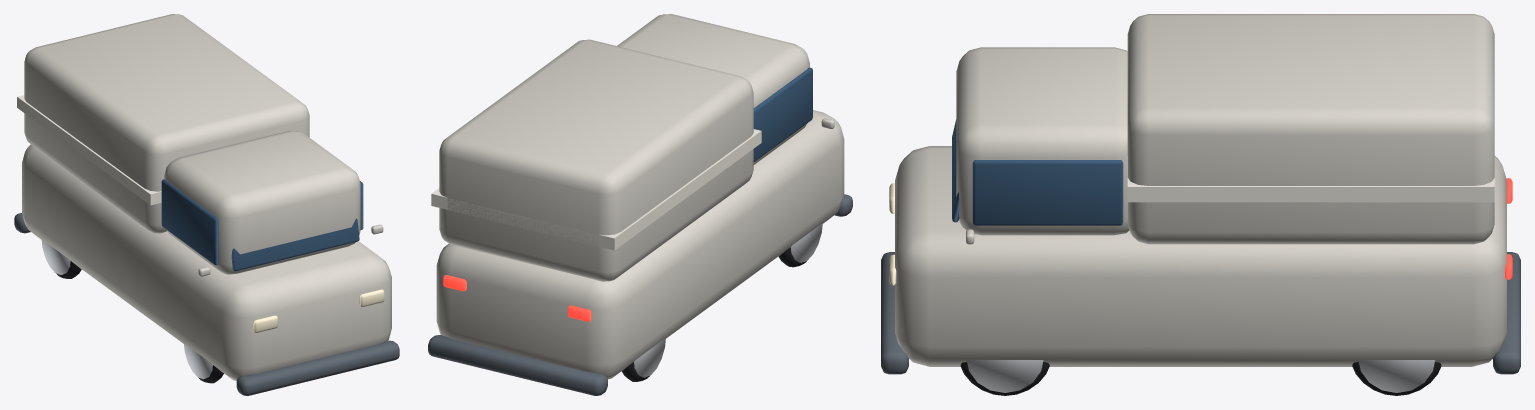
Rendered from car_van.gltf.
3 views of the same model, side by side, from view 1: azimuth 30°, elevation 25°; view 2: azimuth 150°, elevation 25°; view 3: azimuth 270°, elevation 25° (orthographic). The views are drawn at different scales.
Parts seen in each view (by area): view 1: car_van_body, WHEEL_fr_mesh.002, WHEEL_rr_mesh.002; view 2: car_van_body, WHEEL_fr_mesh.002, WHEEL_rr_mesh.002; view 3: car_van_body, WHEEL_fl_mesh.002, WHEEL_rl_mesh.002.
Part boxes in pixels (x1,y1,x2,y2): car_van_body: (14,14,399,395); WHEEL_fr_mesh.002: (184,343,223,383); WHEEL_rr_mesh.002: (41,239,81,278); car_van_body: (428,14,852,395); WHEEL_fr_mesh.002: (778,223,822,267); WHEEL_rr_mesh.002: (621,338,665,381); car_van_body: (881,14,1520,374); WHEEL_fl_mesh.002: (960,360,1049,395); WHEEL_rl_mesh.002: (1352,360,1441,395).
Size of what is drawn, in the model's own units: 2.1 by 2.26 by 4.6.
